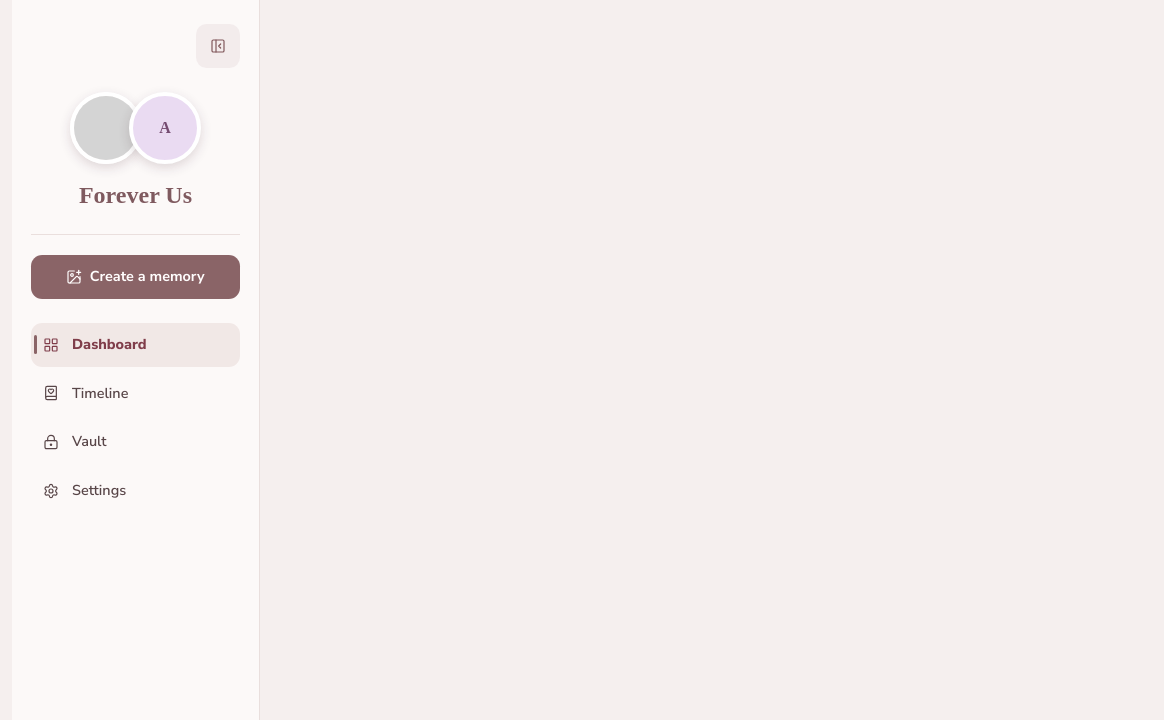
DashboardPage › collapses and expands the desktop sidebar navigation
Click the button named "Collapse sidebar": (218,46) [196,24,240,68]
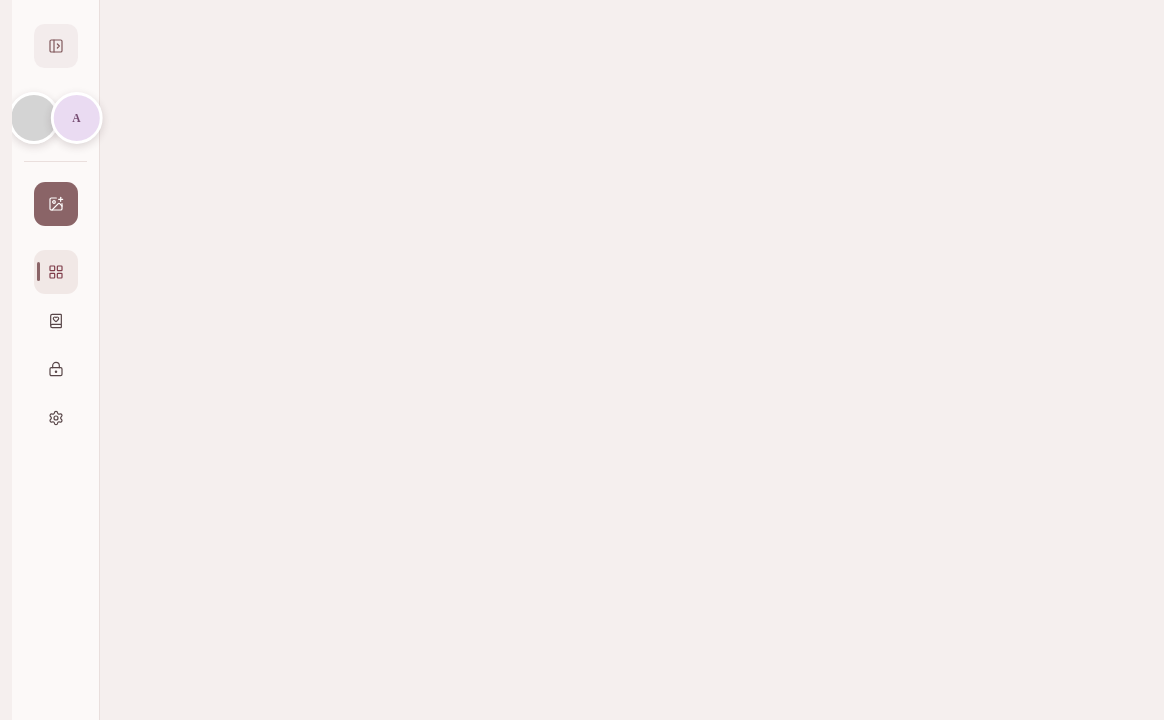
Now the button named "Expand sidebar" is shown
Click the button named "Expand sidebar": (56,46) [34,24,78,68]
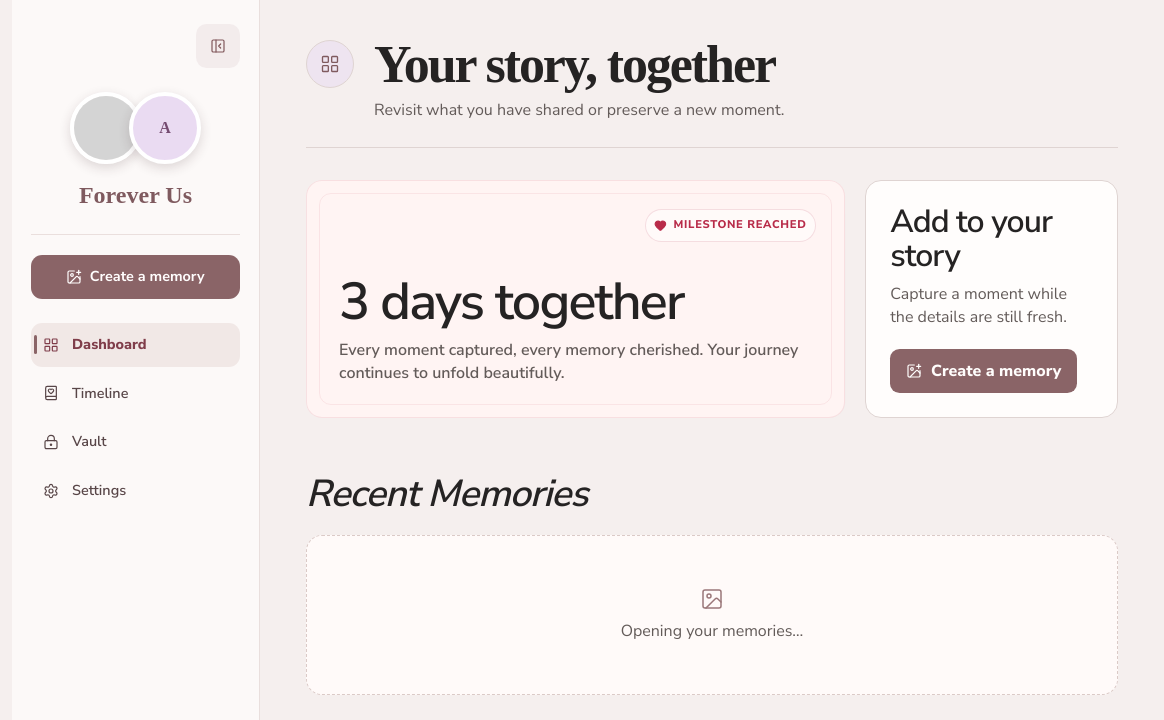
Now the button named "Collapse sidebar" is shown, box [196,24,240,68]
